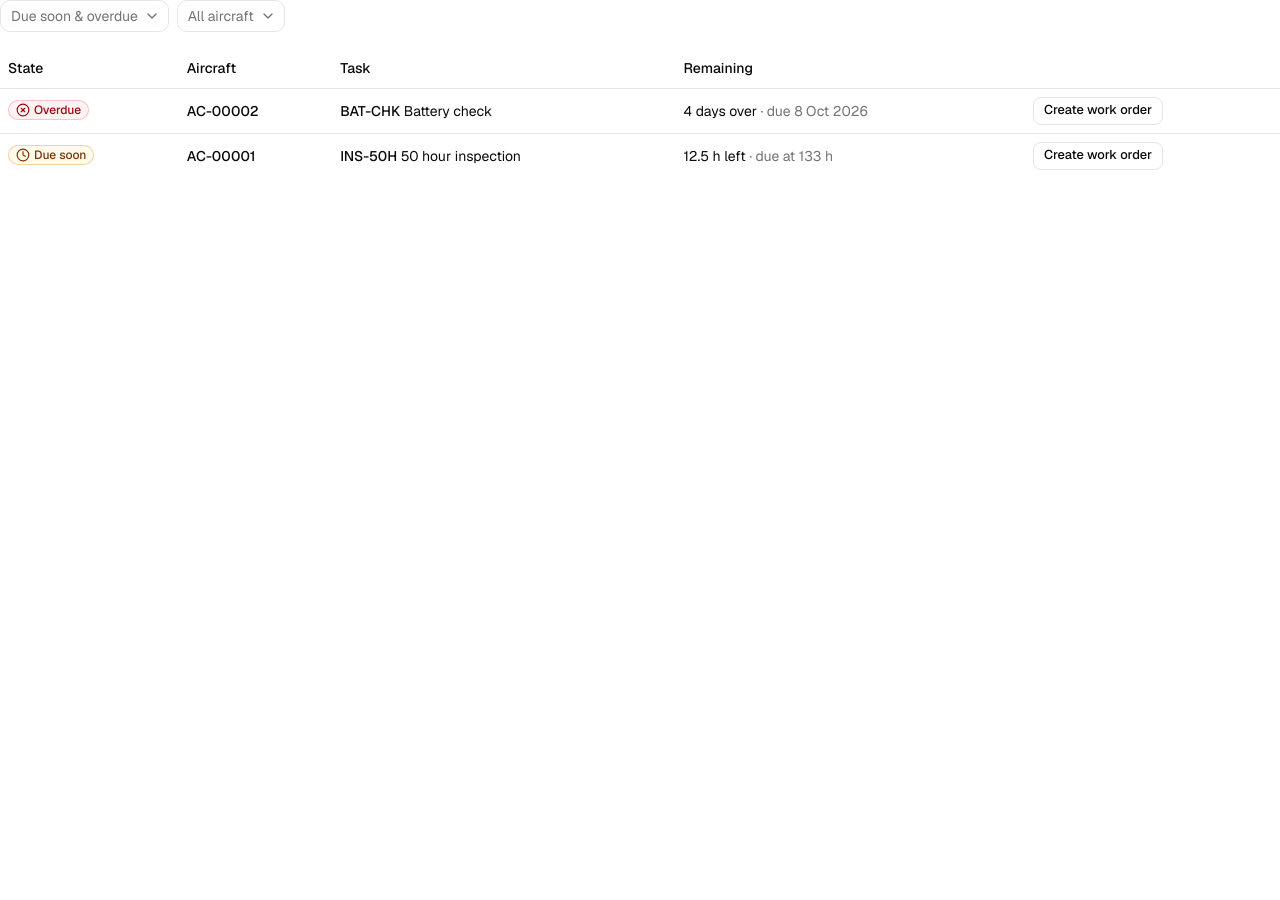
it: DueBoard › opens a work order dialog for the row's aircraft with its task selected
The width and height of the screenshot is (1280, 900).
Click the button with aria-label "Create work order for BAT-CHK on AC-00002". click: (1098,110)
box: [1033,96,1163,124]
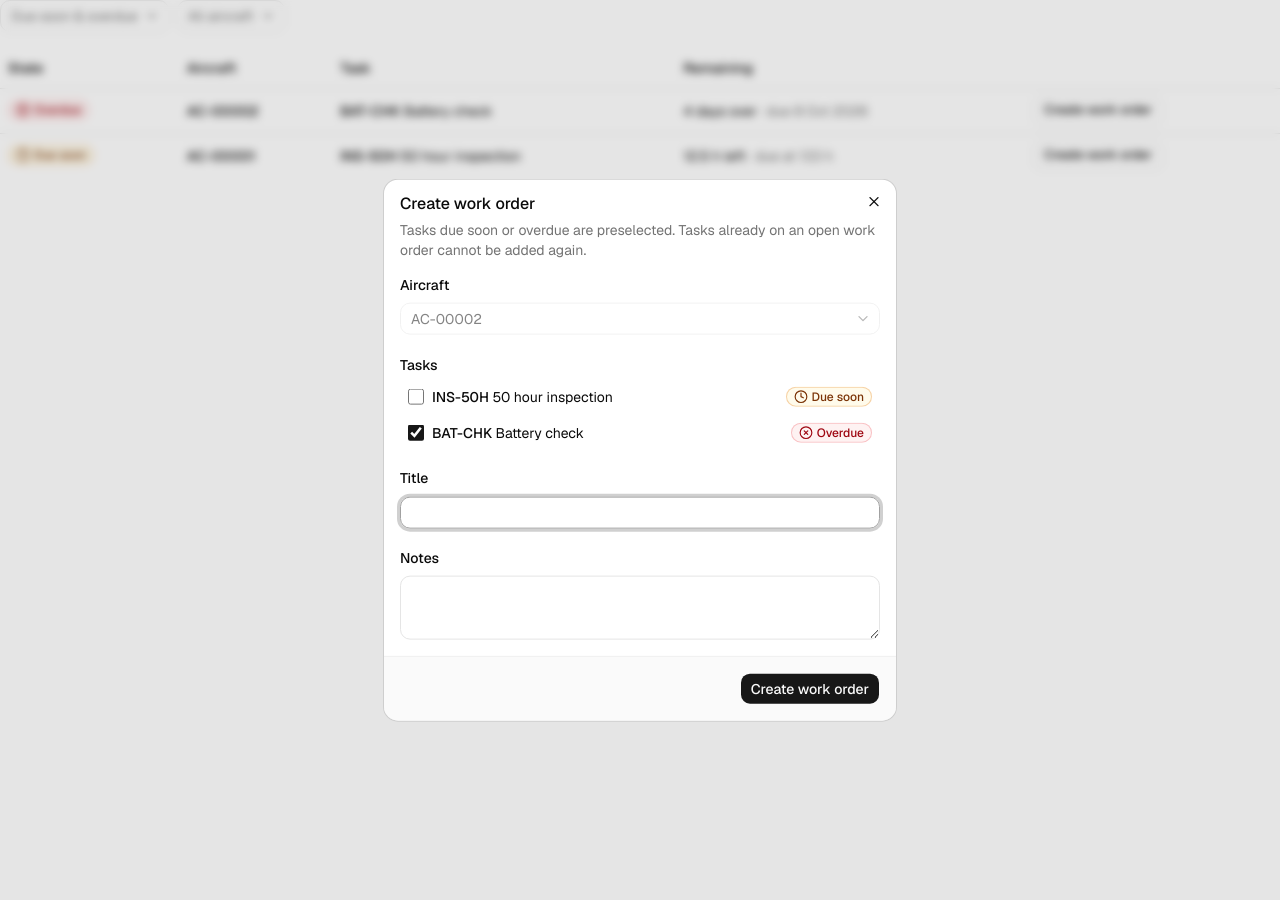
Expected: the checkbox labelled "BAT-CHK Battery check Overdue" is checked, [408,425,424,441]
Expected: the checkbox labelled "INS-50H 50 hour inspection Due soon" is not checked, [408,389,424,405]
Expected: the dropdown named "Aircraft" shows "AC-00002", [400,303,880,335]
